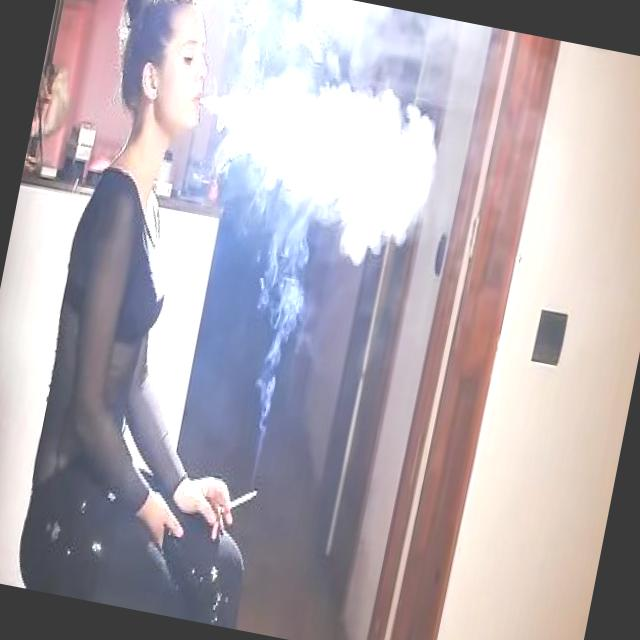cigarette: (218, 481, 259, 524)
